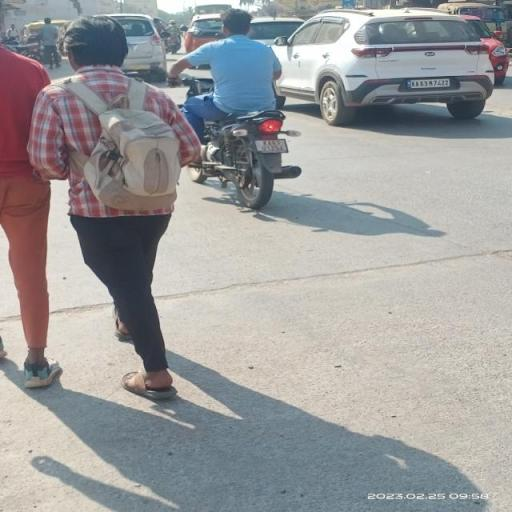bike: (171, 6, 304, 208)
numberplate: (255, 138, 289, 154)
withouthelmet: (221, 9, 252, 35)
